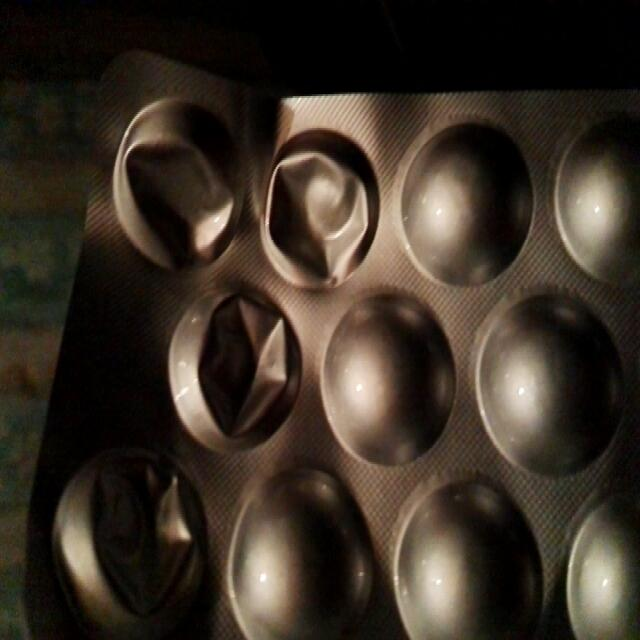Empty: (46, 461, 211, 631), (163, 279, 307, 452), (255, 112, 380, 284), (118, 94, 232, 267)
Pill: (468, 286, 626, 476), (389, 474, 553, 640), (387, 101, 532, 288), (318, 293, 463, 466), (223, 483, 376, 640), (549, 112, 640, 290), (555, 503, 640, 640)
